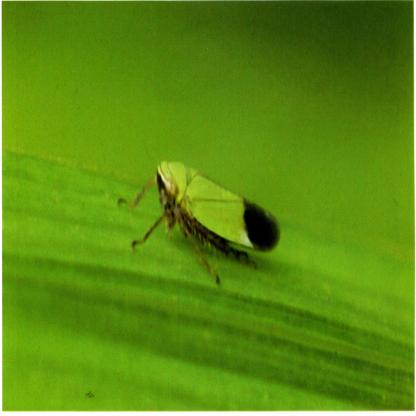Green-Leafhopper: (116, 152, 283, 286)
